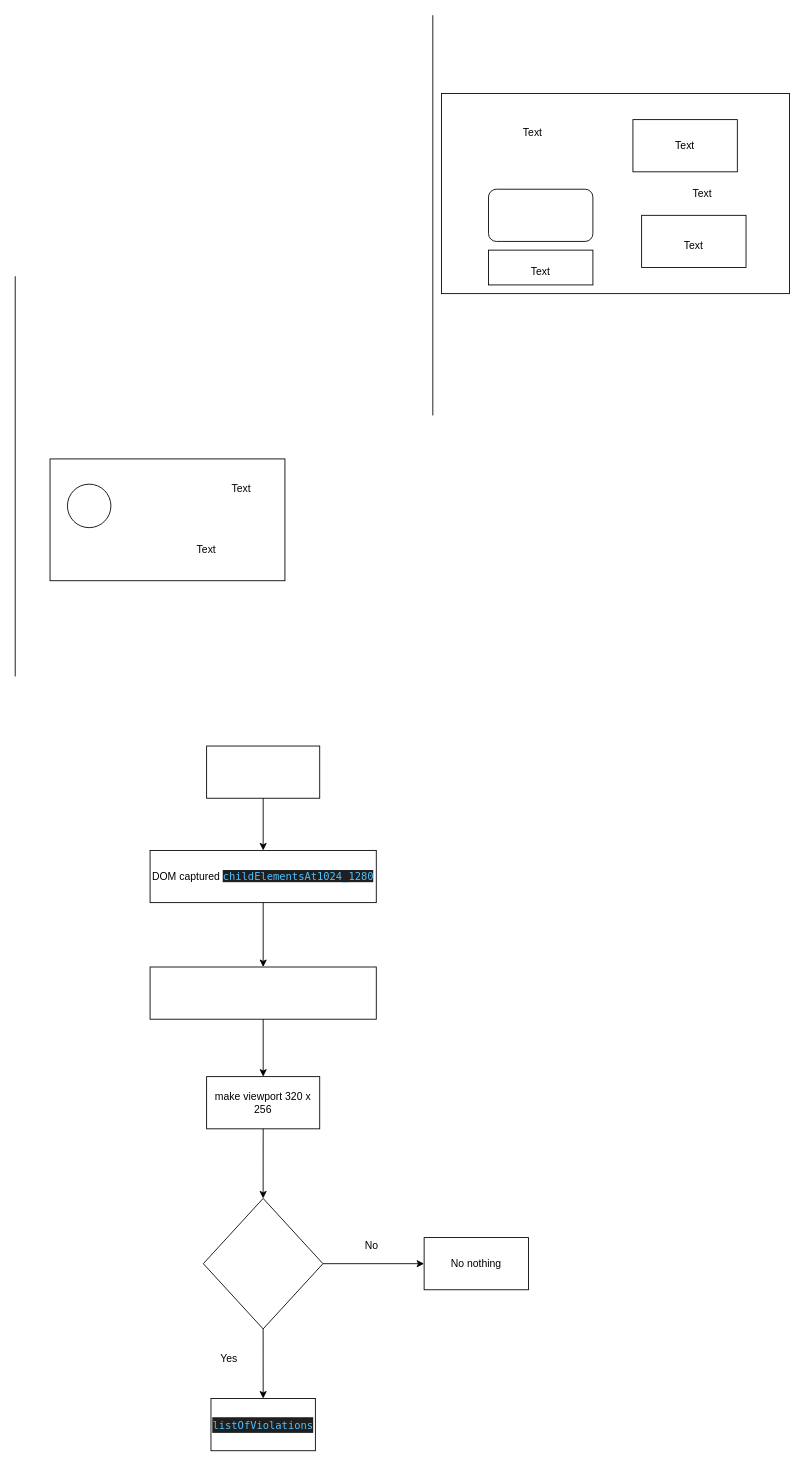
Image size: 805x1466. Some labels were removed from this diagram. Here are the shapes that lost their labels. From the top down, the centre of each, then its label:
pixel 263 771: make viewport 1024 x 1280
pixel 262 992: DOM captured visibleElementAt1024_1280
pixel 262 1263: checkReflow(node))
